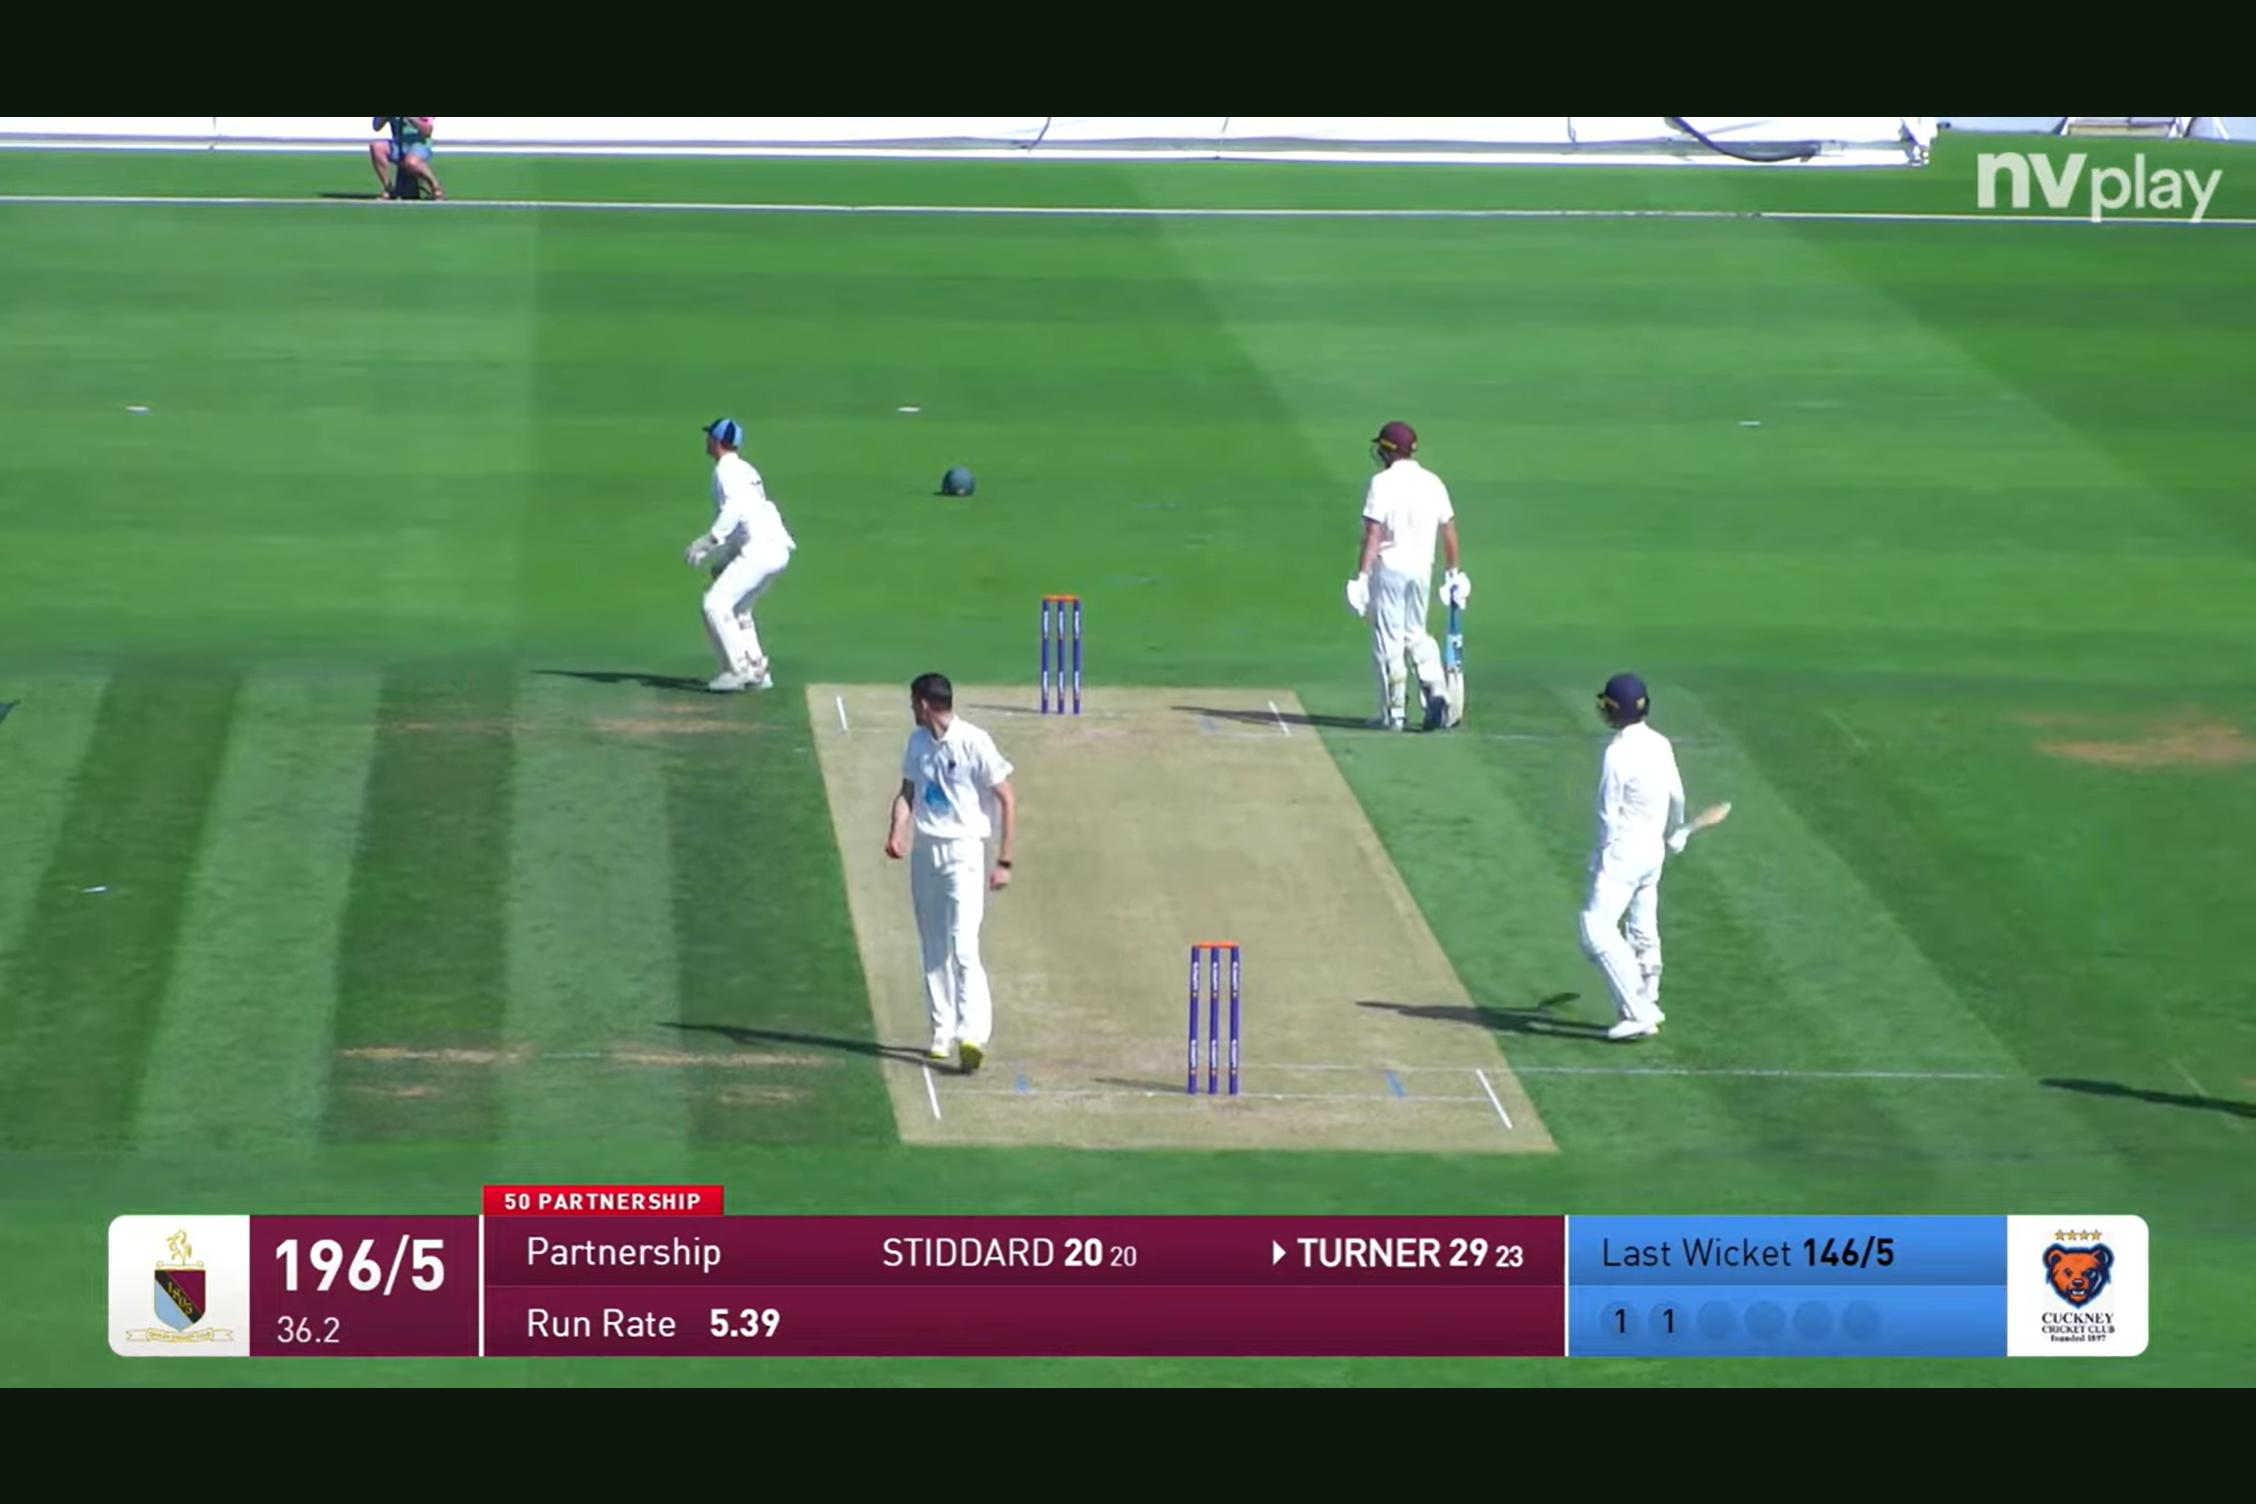batsman: (1313, 416, 1502, 740)
bowler walking back: (849, 648, 1061, 1079)
non striker: (1534, 666, 1732, 1083)
wicket keeper: (653, 386, 802, 713)
